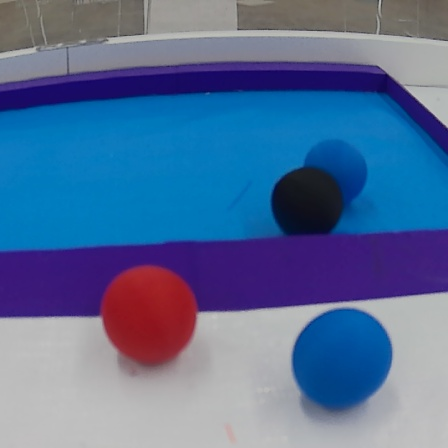black: (269, 169, 344, 247)
blue: (287, 302, 399, 415), (302, 139, 368, 206)
blue_aim: (2, 59, 447, 323)
red: (101, 262, 198, 374)
